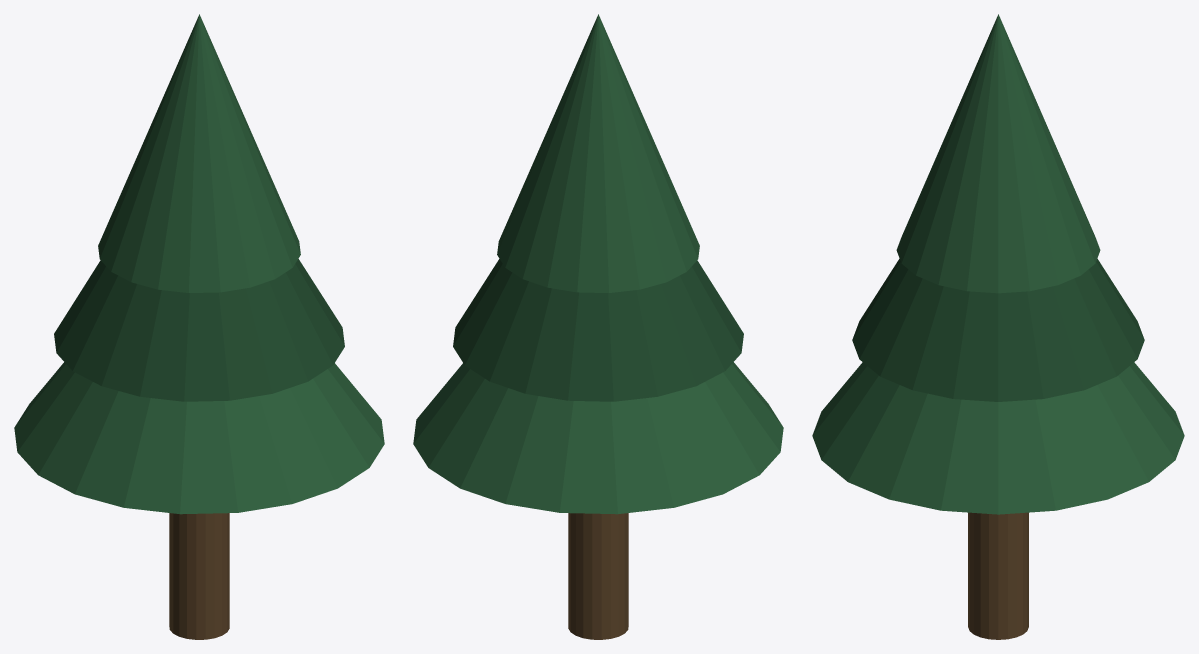
The model's file is tree_pine_02.glb.
3 views of the same model, side by side, from view 1: azimuth 30°, elevation 25°; view 2: azimuth 150°, elevation 25°; view 3: azimuth 270°, elevation 25° (orthographic).
Parts seen in each view (by area): view 1: Cylinder; view 2: Cylinder; view 3: Cylinder.
Boxes of the visible parts, <box> form: Cylinder: <box>14,14,384,639</box>; Cylinder: <box>413,14,783,639</box>; Cylinder: <box>812,14,1184,639</box>.
Size of the model in its own units: 0.8588 by 1.56 by 0.8588.
